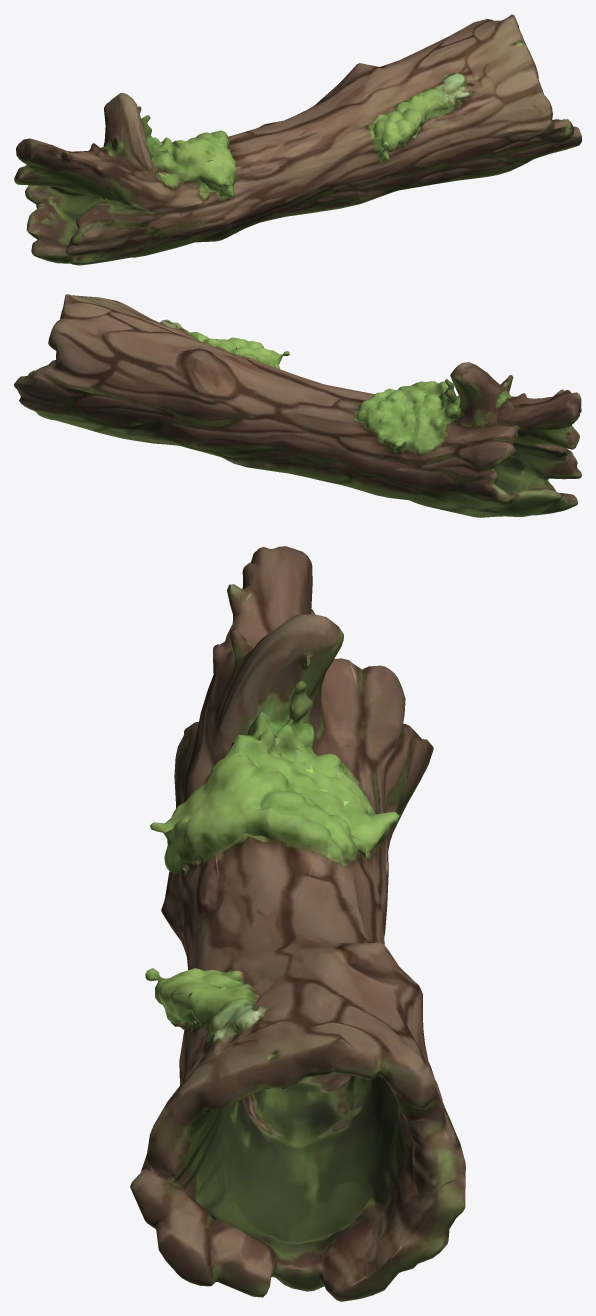
Rendered from LogCartoon.glb.
3 views of the same model, one above another, from view 1: azimuth 30°, elevation 25°; view 2: azimuth 150°, elevation 25°; view 3: azimuth 270°, elevation 25° (orthographic). The views are drawn at different scales.
Parts seen in each view (by area): view 1: LogCartoon; view 2: LogCartoon; view 3: LogCartoon.
Boxes of the visible parts, left/top/right/bottom form: LogCartoon: left=14, top=14, right=581, bottom=265; LogCartoon: left=14, top=294, right=581, bottom=517; LogCartoon: left=130, top=546, right=465, bottom=1301.
Bounding box in the file's own units: 2.4 × 0.659 × 0.6587.
1 material, 1 textured.
